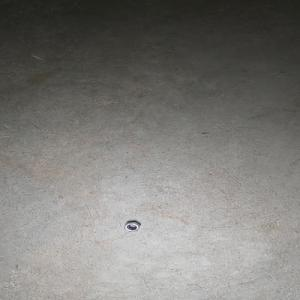Nut: (123, 221, 140, 231)
